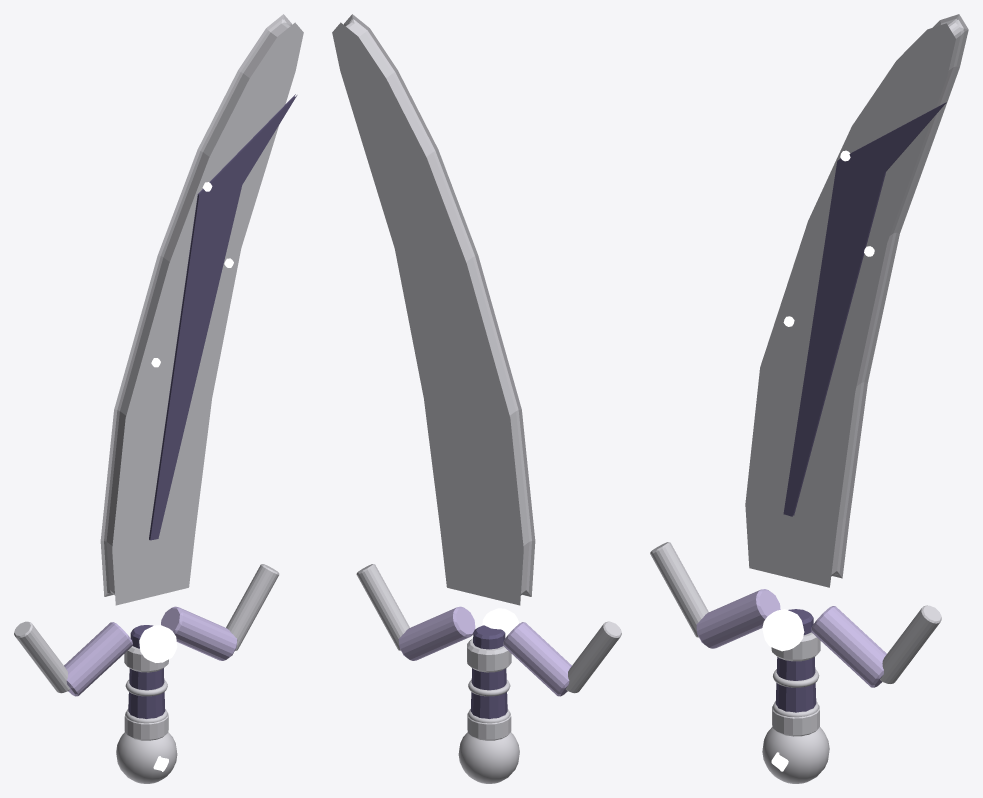
The model's file is warrior-sword-06-eclipse-moon.glb.
The picture shows the model from 3 angles, left to right: view 1: azimuth 30°, elevation 25°; view 2: azimuth 150°, elevation 25°; view 3: azimuth 330°, elevation 25°; orthographic projection. The views are drawn at different scales.
Visible parts, largest first — view 1: warrior-sword-06-eclipse-moon_ForgedBlade, warrior-sword-06-eclipse-moon_ColoredFuller, warrior-sword-06-eclipse-moon_Guard_Left, warrior-sword-06-eclipse-moon_Guard_Right, warrior-sword-06-eclipse-moon_Pommel, warrior-sword-06-eclipse-moon_Guard_RightTip, warrior-sword-06-eclipse-moon_LeatherGrip, warrior-sword-06-eclipse-moon_Guard_LeftTip, warrior-sword-06-eclipse-moon_GuardGem, warrior-sword-06-eclipse-moon_LowerFerrule, warrior-sword-06-eclipse-moon_UpperFerrule; view 2: warrior-sword-06-eclipse-moon_ForgedBlade, warrior-sword-06-eclipse-moon_Guard_Left, warrior-sword-06-eclipse-moon_Guard_Right, warrior-sword-06-eclipse-moon_Pommel, warrior-sword-06-eclipse-moon_LeatherGrip, warrior-sword-06-eclipse-moon_Guard_RightTip, warrior-sword-06-eclipse-moon_Guard_LeftTip, warrior-sword-06-eclipse-moon_UpperFerrule, warrior-sword-06-eclipse-moon_LowerFerrule, warrior-sword-06-eclipse-moon_GuardGem; view 3: warrior-sword-06-eclipse-moon_ForgedBlade, warrior-sword-06-eclipse-moon_ColoredFuller, warrior-sword-06-eclipse-moon_Guard_Right, warrior-sword-06-eclipse-moon_Guard_Left, warrior-sword-06-eclipse-moon_Pommel, warrior-sword-06-eclipse-moon_Guard_LeftTip, warrior-sword-06-eclipse-moon_LeatherGrip, warrior-sword-06-eclipse-moon_Guard_RightTip, warrior-sword-06-eclipse-moon_GuardGem, warrior-sword-06-eclipse-moon_LowerFerrule, warrior-sword-06-eclipse-moon_UpperFerrule.
Boxes of the visible parts, x1,y1,x2,y2 form: warrior-sword-06-eclipse-moon_ForgedBlade: (100, 14, 303, 605); warrior-sword-06-eclipse-moon_ColoredFuller: (149, 94, 297, 540); warrior-sword-06-eclipse-moon_Guard_Left: (64, 622, 132, 696); warrior-sword-06-eclipse-moon_Guard_Right: (161, 606, 237, 660); warrior-sword-06-eclipse-moon_Pommel: (116, 732, 177, 783); warrior-sword-06-eclipse-moon_Guard_RightTip: (226, 564, 279, 650); warrior-sword-06-eclipse-moon_LeatherGrip: (128, 625, 165, 718); warrior-sword-06-eclipse-moon_Guard_LeftTip: (14, 621, 69, 693); warrior-sword-06-eclipse-moon_GuardGem: (139, 625, 177, 662); warrior-sword-06-eclipse-moon_LowerFerrule: (124, 712, 168, 740); warrior-sword-06-eclipse-moon_UpperFerrule: (124, 646, 168, 672); warrior-sword-06-eclipse-moon_ForgedBlade: (332, 14, 535, 605); warrior-sword-06-eclipse-moon_Guard_Left: (503, 622, 571, 696); warrior-sword-06-eclipse-moon_Guard_Right: (398, 606, 475, 660); warrior-sword-06-eclipse-moon_Pommel: (458, 732, 519, 783); warrior-sword-06-eclipse-moon_LeatherGrip: (470, 625, 507, 718); warrior-sword-06-eclipse-moon_Guard_RightTip: (356, 564, 409, 650); warrior-sword-06-eclipse-moon_Guard_LeftTip: (566, 621, 621, 693); warrior-sword-06-eclipse-moon_UpperFerrule: (467, 638, 511, 672); warrior-sword-06-eclipse-moon_LowerFerrule: (467, 712, 511, 740); warrior-sword-06-eclipse-moon_GuardGem: (482, 608, 519, 637); warrior-sword-06-eclipse-moon_ForgedBlade: (745, 14, 968, 587); warrior-sword-06-eclipse-moon_ColoredFuller: (783, 102, 946, 516); warrior-sword-06-eclipse-moon_Guard_Right: (811, 606, 886, 687); warrior-sword-06-eclipse-moon_Guard_Left: (696, 589, 780, 648); warrior-sword-06-eclipse-moon_Pommel: (762, 727, 829, 783); warrior-sword-06-eclipse-moon_Guard_LeftTip: (650, 542, 708, 637); warrior-sword-06-eclipse-moon_LeatherGrip: (775, 609, 816, 712); warrior-sword-06-eclipse-moon_Guard_RightTip: (880, 605, 941, 683); warrior-sword-06-eclipse-moon_GuardGem: (762, 609, 804, 651); warrior-sword-06-eclipse-moon_LowerFerrule: (772, 705, 819, 736); warrior-sword-06-eclipse-moon_UpperFerrule: (771, 632, 820, 661).
Bounding box in the file's own units: 0.6777 × 1.67 × 0.15.
